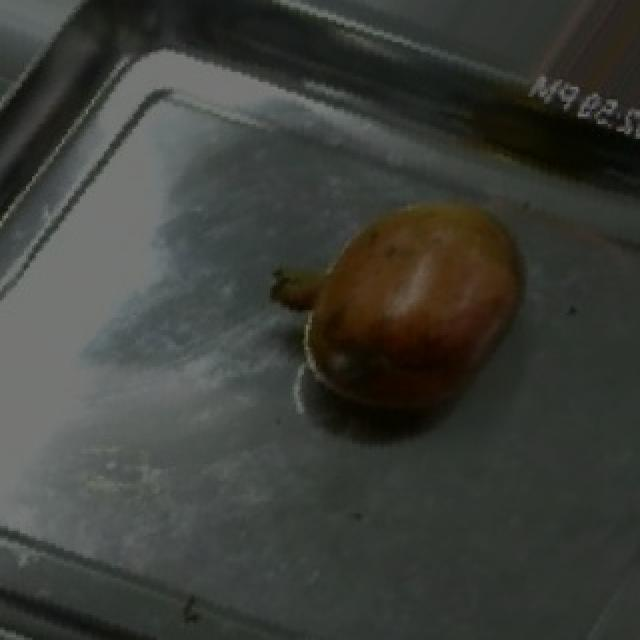fruit: (264, 169, 542, 439)
